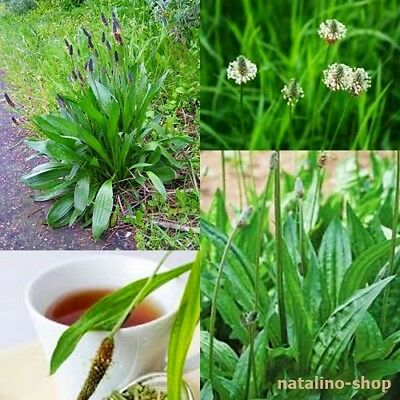buckhorn plantain: (215, 156, 381, 381), (22, 7, 189, 225), (318, 21, 367, 138), (225, 49, 272, 131), (279, 75, 323, 129)
